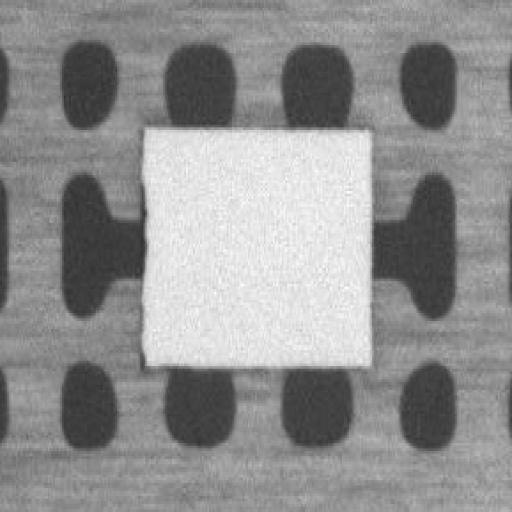DIE_BROKEN: (133, 178, 149, 273)
